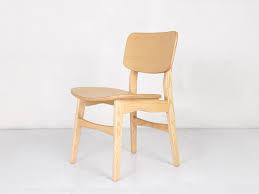chair: (61, 19, 201, 182)
